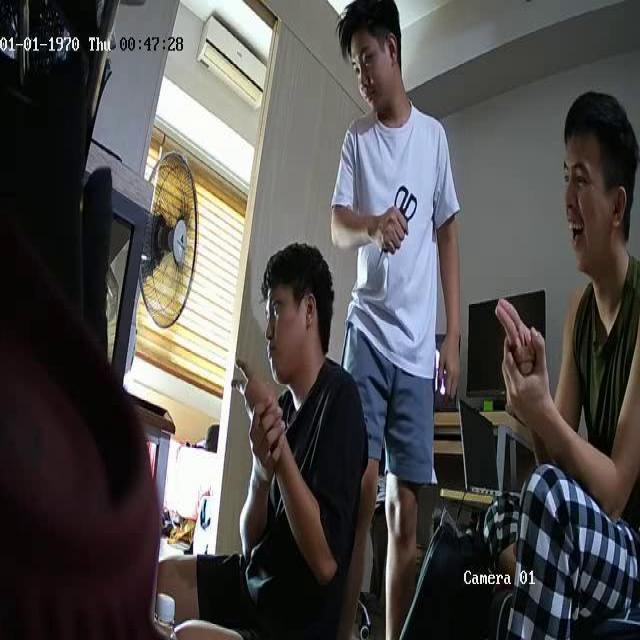scissor: (376, 186, 418, 266)
